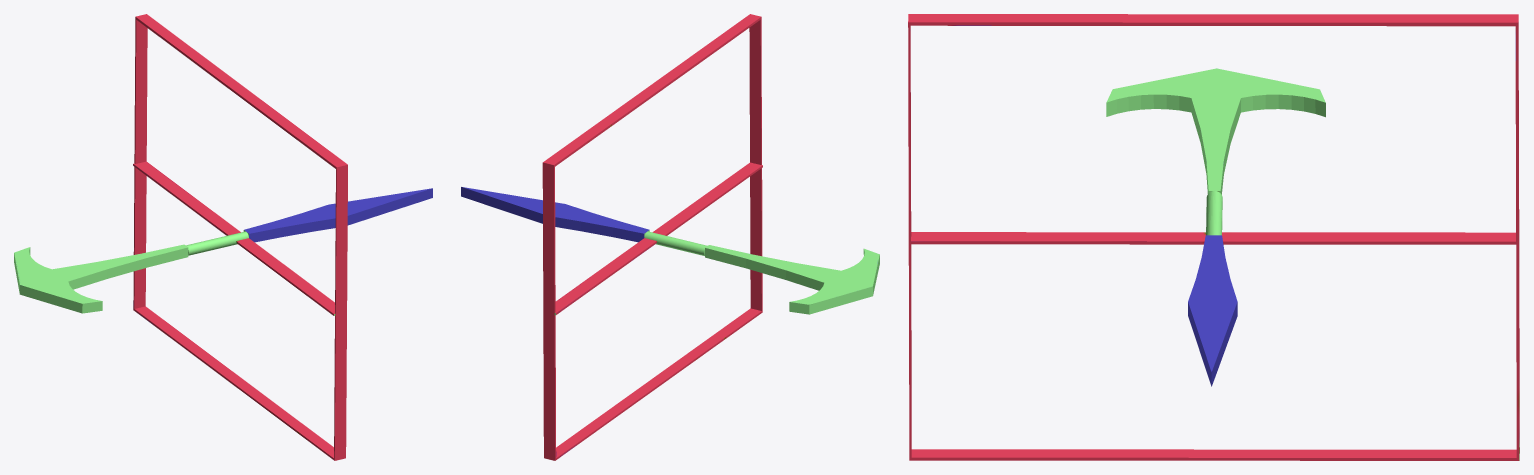
File: arrow3.fbx
3 renders of one model, left to right at view 1: azimuth 30°, elevation 25°; view 2: azimuth 150°, elevation 25°; view 3: azimuth 270°, elevation 25°, orthographic. The views are drawn at different scales.
Visible parts, largest first — view 1: arrow3; view 2: arrow3; view 3: arrow3.
Boxes of the visible parts, <box> form: arrow3: <box>14,14,432,460</box>; arrow3: <box>461,14,879,460</box>; arrow3: <box>908,14,1519,460</box>.
Bounding box in the file's own units: 26.09 × 17.84 × 22.44.
Materials: 1 (1 with a texture image).
